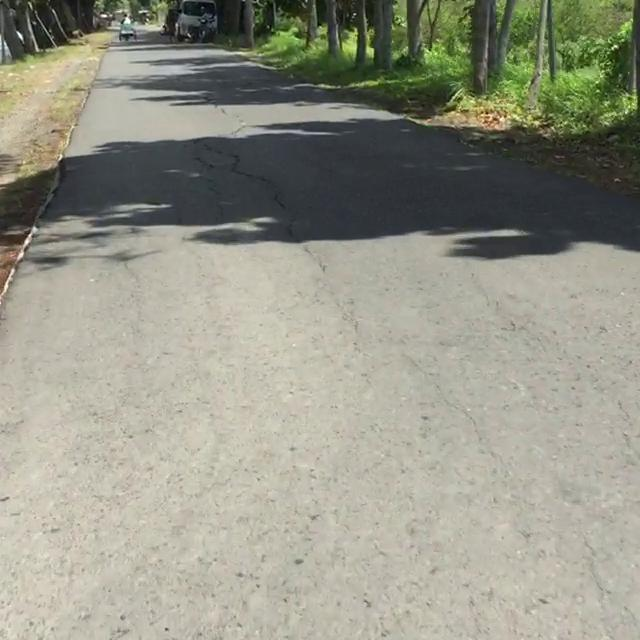retak_memanjang: (221, 141, 329, 284)
